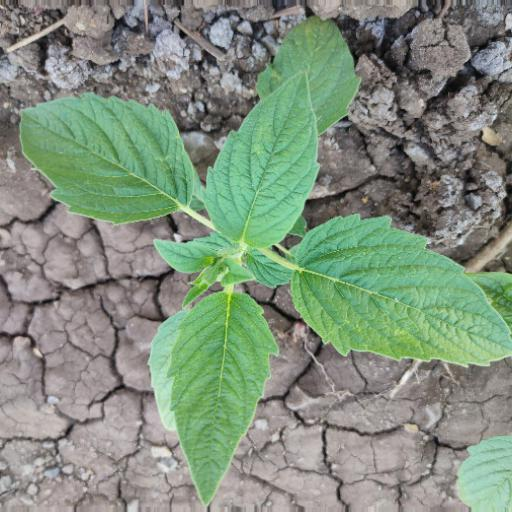crop: (14, 14, 510, 500)
